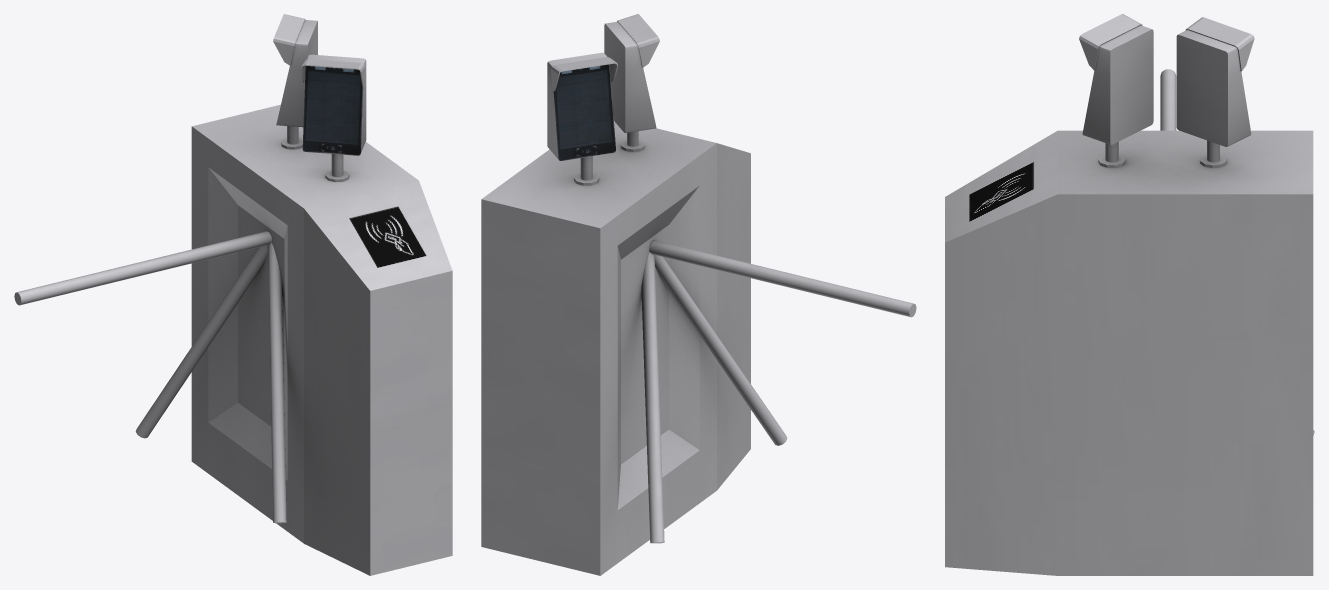
The picture shows the model from 3 angles, left to right: view 1: azimuth 30°, elevation 25°; view 2: azimuth 150°, elevation 25°; view 3: azimuth 270°, elevation 25°; orthographic projection. The views are drawn at different scales.
Parts seen in each view (by area): view 1: SPEGCU_0038; view 2: SPEGCU_0038; view 3: SPEGCU_0038.
Boxes of the visible parts, x1,y1,x2,y2 form: SPEGCU_0038: (14, 14, 452, 575); SPEGCU_0038: (481, 14, 916, 575); SPEGCU_0038: (945, 14, 1314, 575).
Size of the model in its own units: 814 by 997 by 650.
